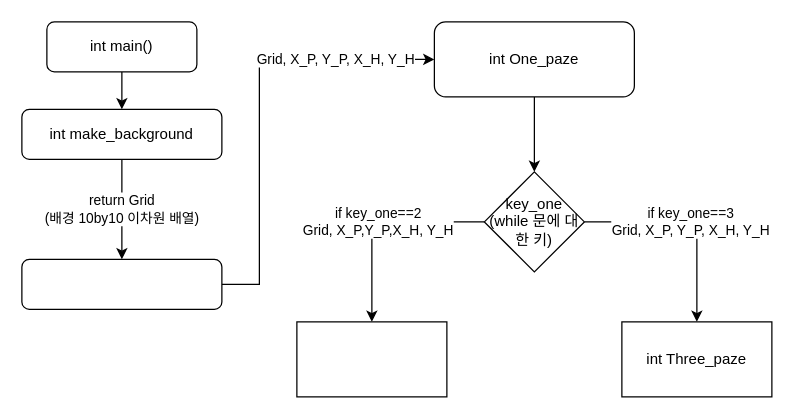
Some shapes in this 794 by 419 pixel diagram are drawn without their labels. Here are the shapes that lost their labels. From the top down, the box of each, then its label:
(21, 258, 222, 309): int make_location
(296, 321, 447, 397): int Two_paze
